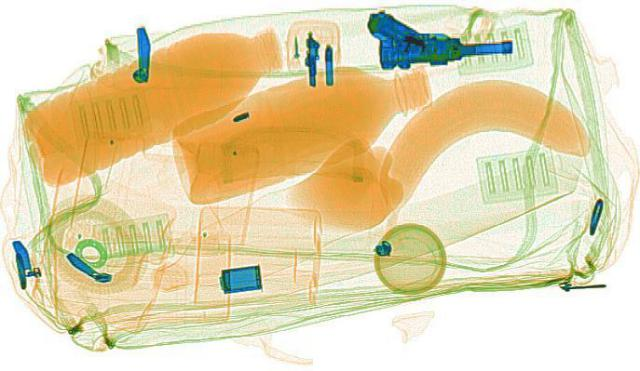Gun: (340, 5, 528, 86)
